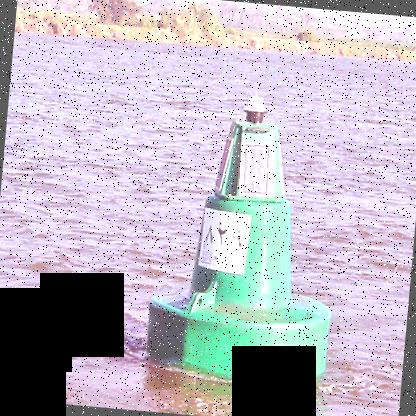Buoy: (136, 82, 356, 393)
